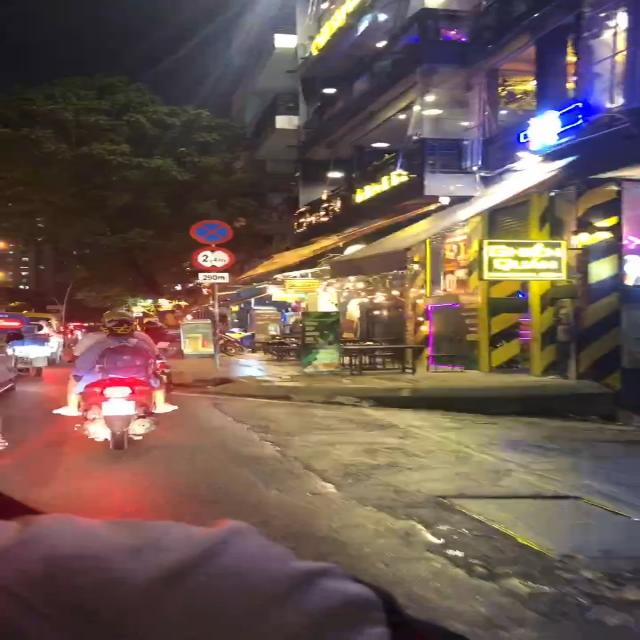Bien bao cam dung xe va do xe: (186, 216, 240, 244)
Bien bao han che chieu cao: (189, 246, 238, 271)
